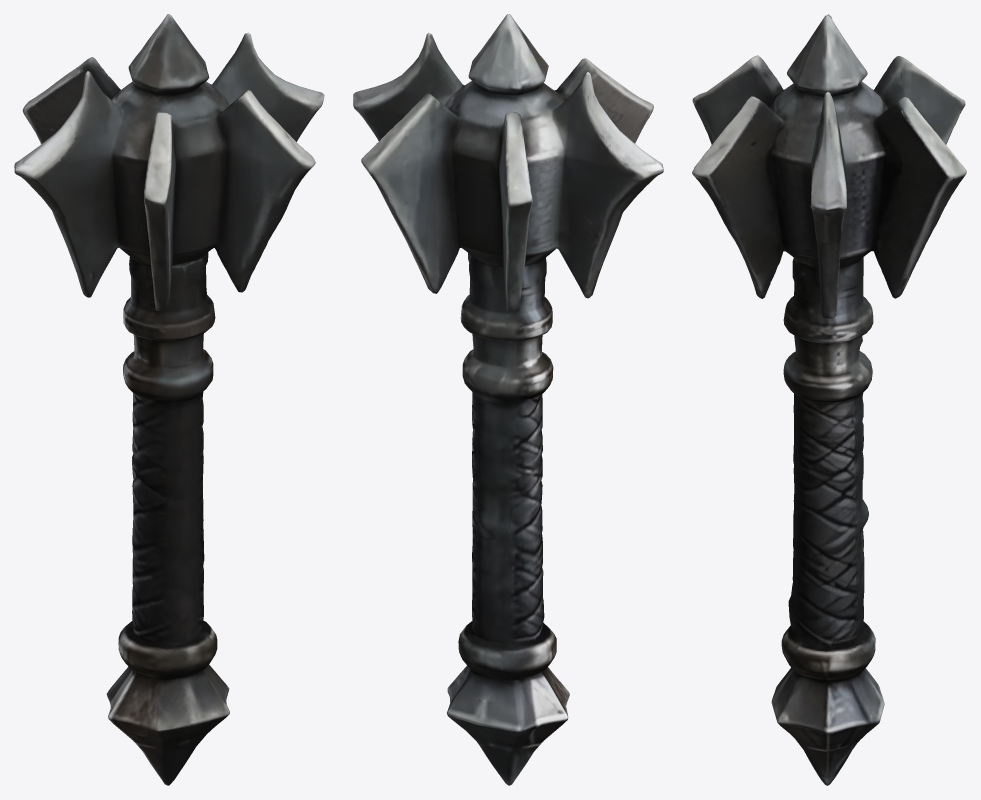
Rendered from pointed_mace.glb.
3 views of the same model, side by side, from view 1: azimuth 30°, elevation 25°; view 2: azimuth 150°, elevation 25°; view 3: azimuth 270°, elevation 25° (orthographic).
Parts seen in each view (by area): view 1: pointed_mace; view 2: pointed_mace; view 3: pointed_mace.
Part boxes in pixels (left/top/right/bottom): pointed_mace: left=14, top=14, right=324, bottom=785; pointed_mace: left=353, top=14, right=663, bottom=785; pointed_mace: left=692, top=14, right=966, bottom=785.
Size of the model in its own units: 0.3112 by 0.7423 by 0.24.
1 material, 1 textured.
